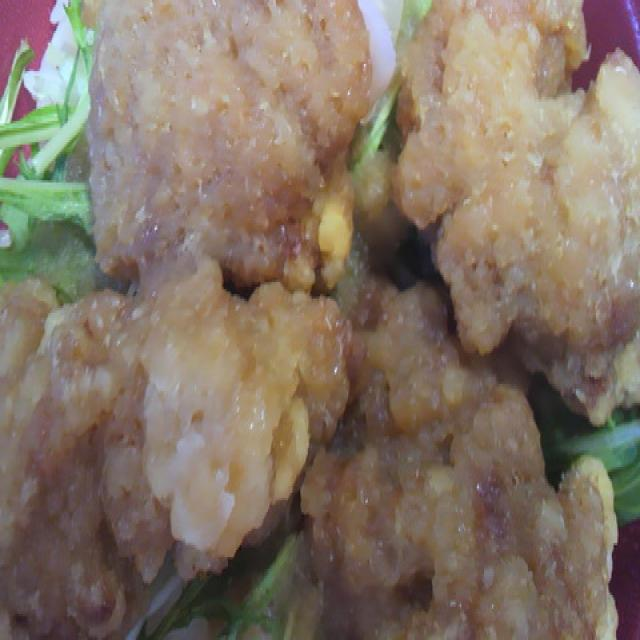鸡肉料理 含炸鸡: (1, 2, 634, 636)
